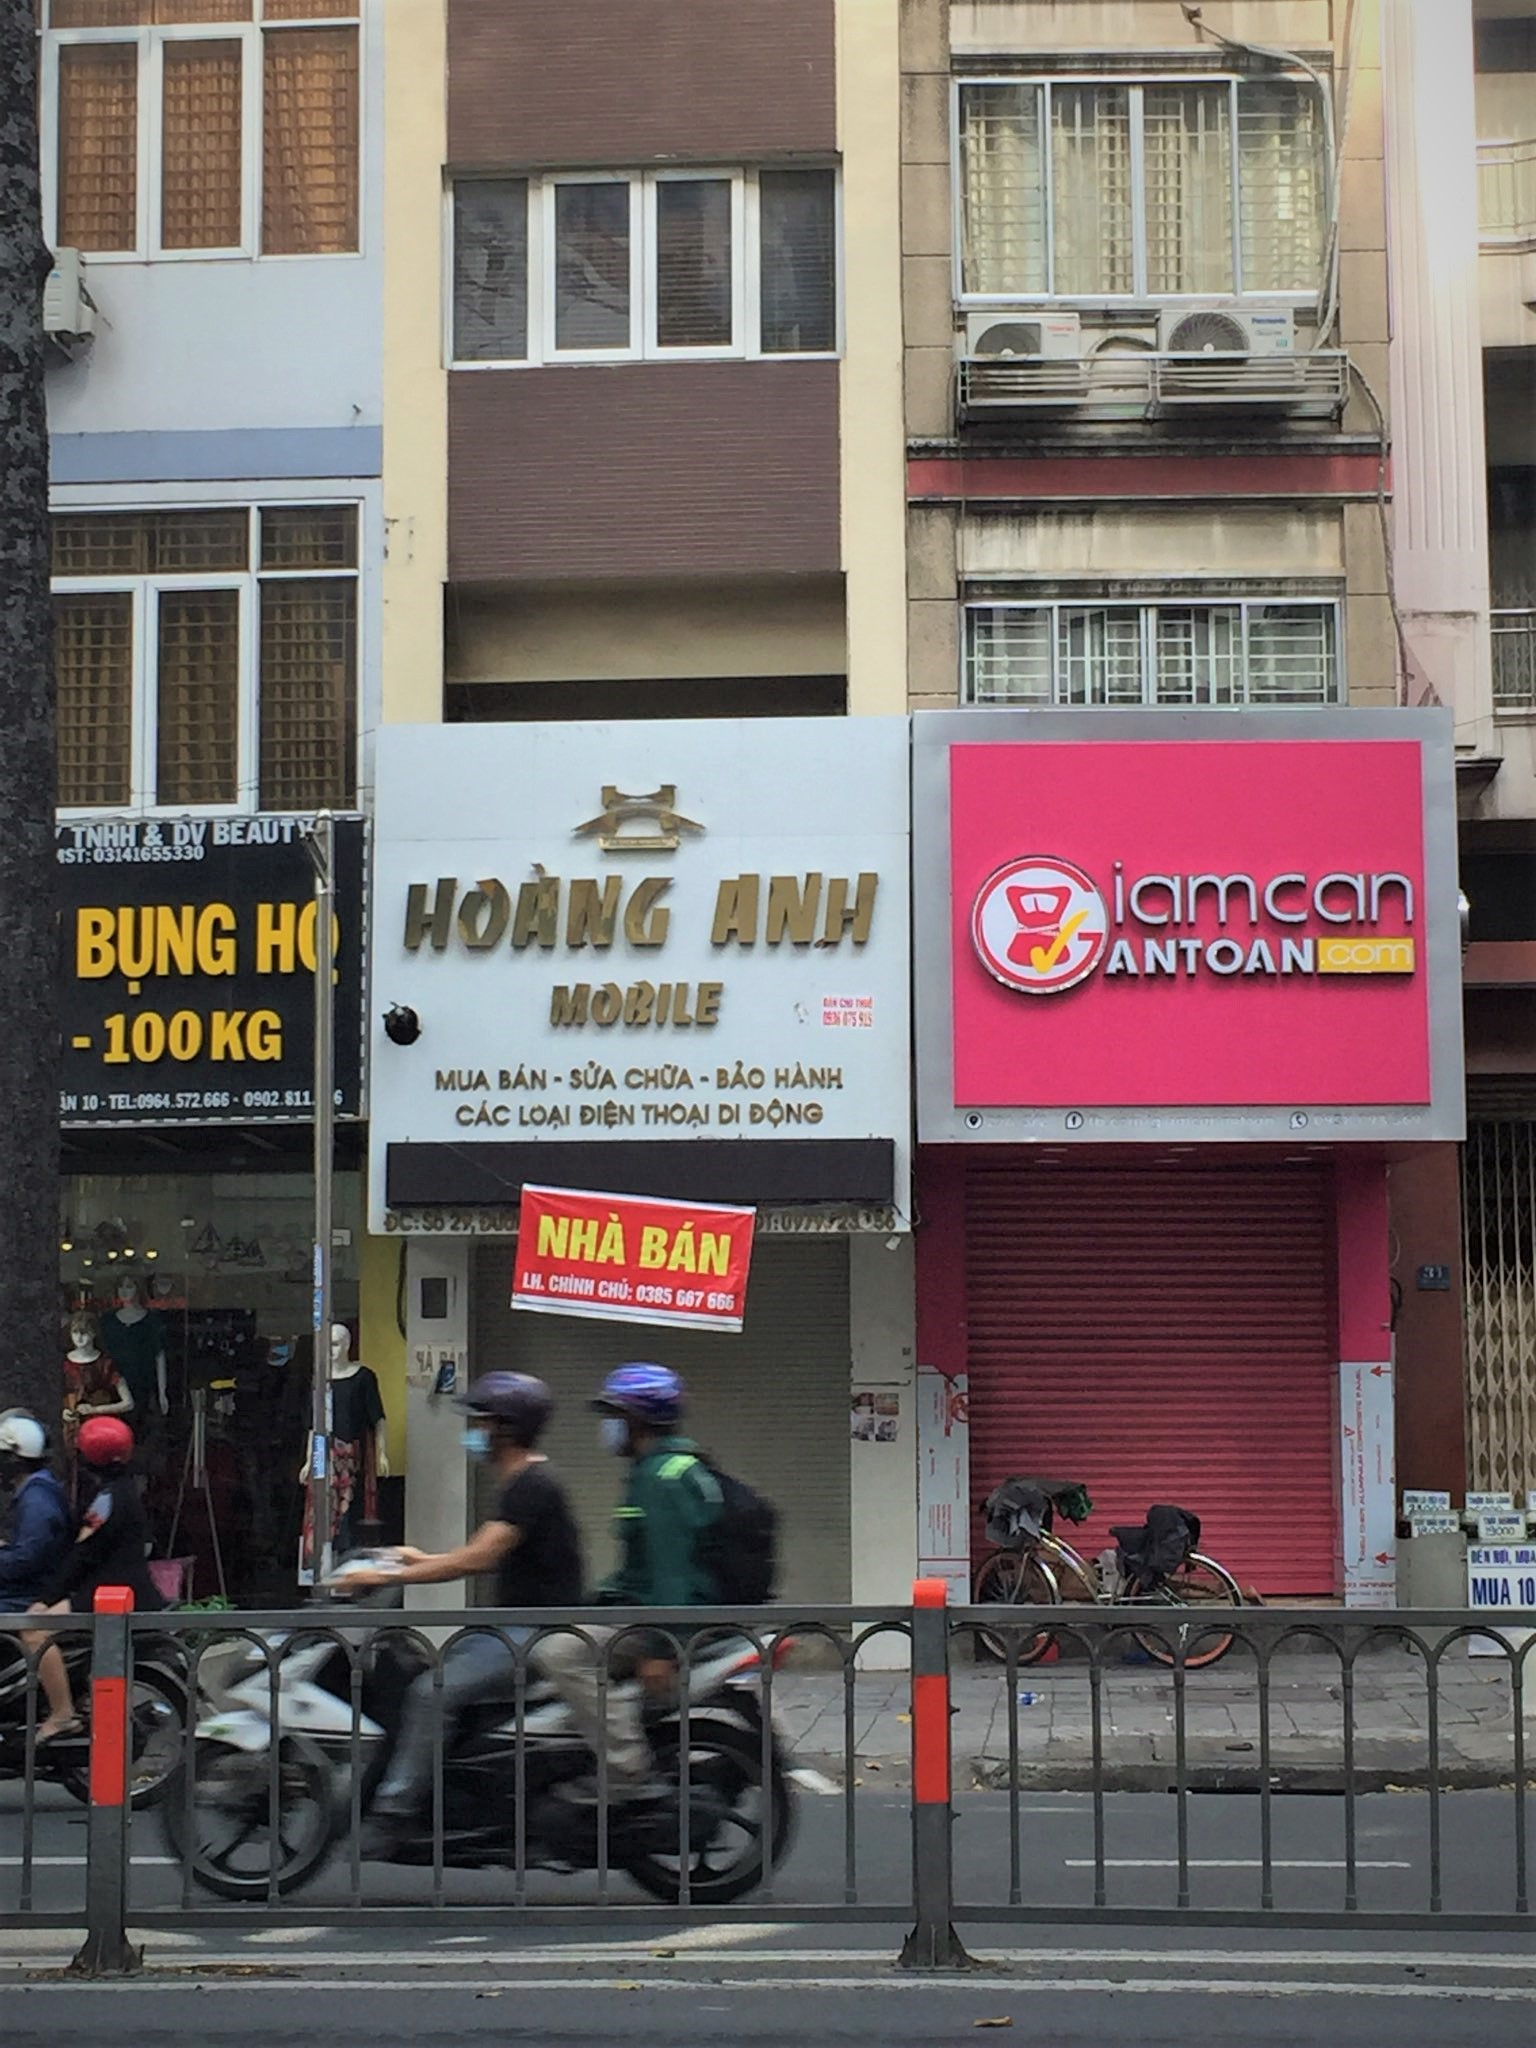banner: (378, 718, 928, 1121), (931, 731, 1446, 1130), (45, 793, 368, 1126), (495, 1185, 771, 1350)
